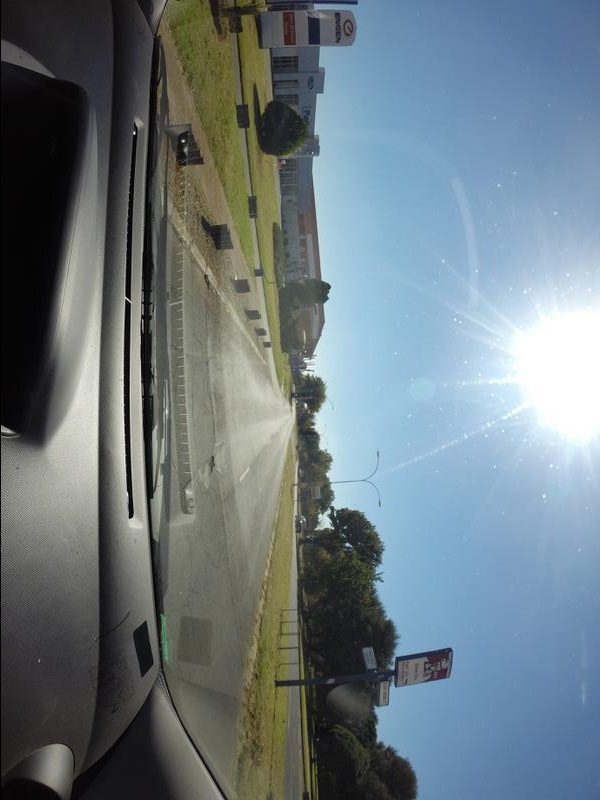pothole: (197, 270, 214, 312), (203, 454, 219, 486)
